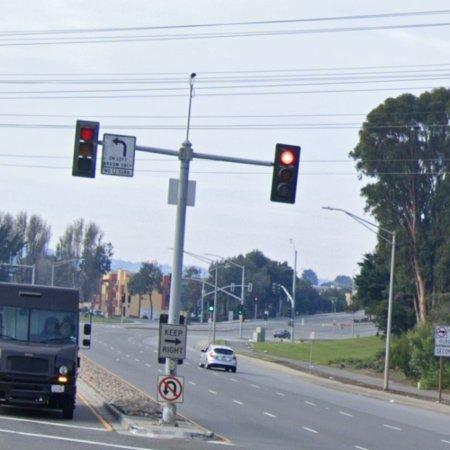traffic lights: (271, 144, 301, 203)
